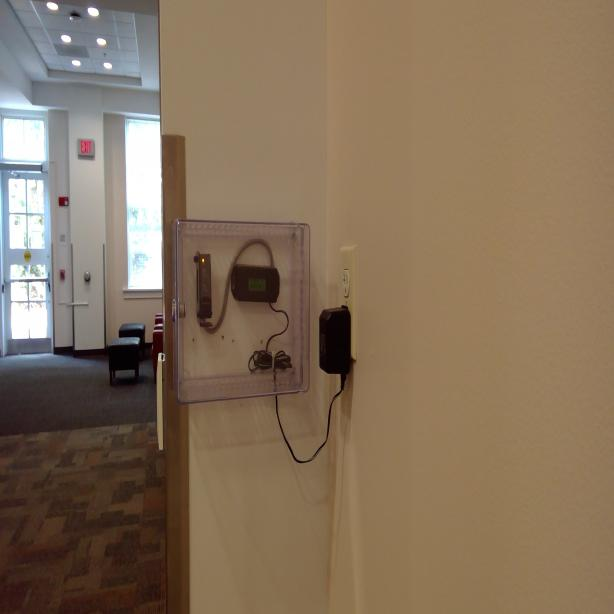typeb: (342, 269, 350, 296)
